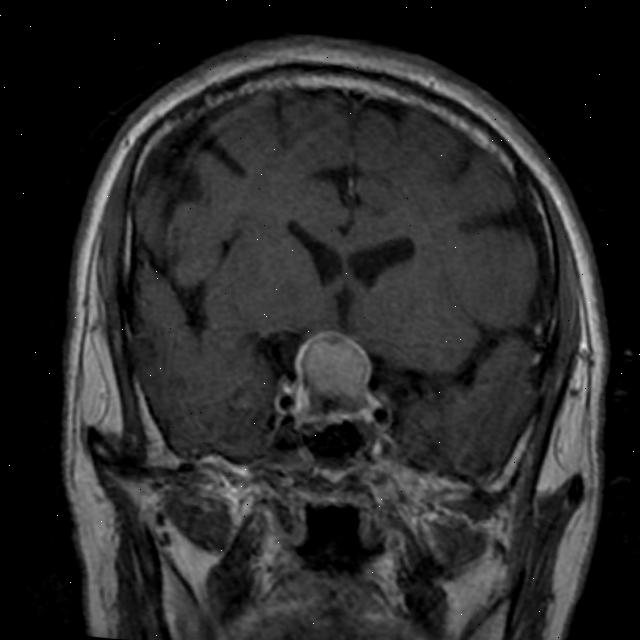Pituitary: (291, 326, 381, 427)
